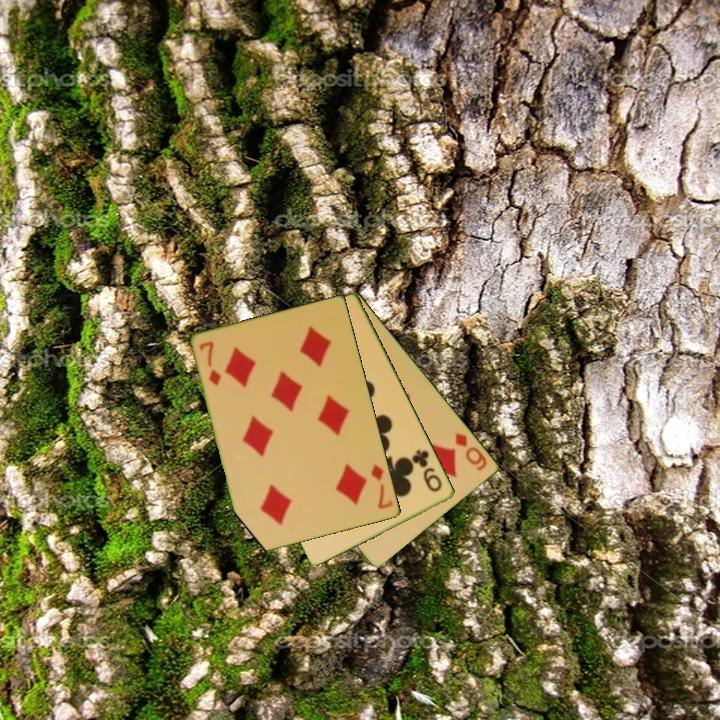6d: (452, 429, 490, 474)
7d: (196, 338, 225, 389), (368, 461, 396, 512)
9c: (409, 446, 445, 495)
